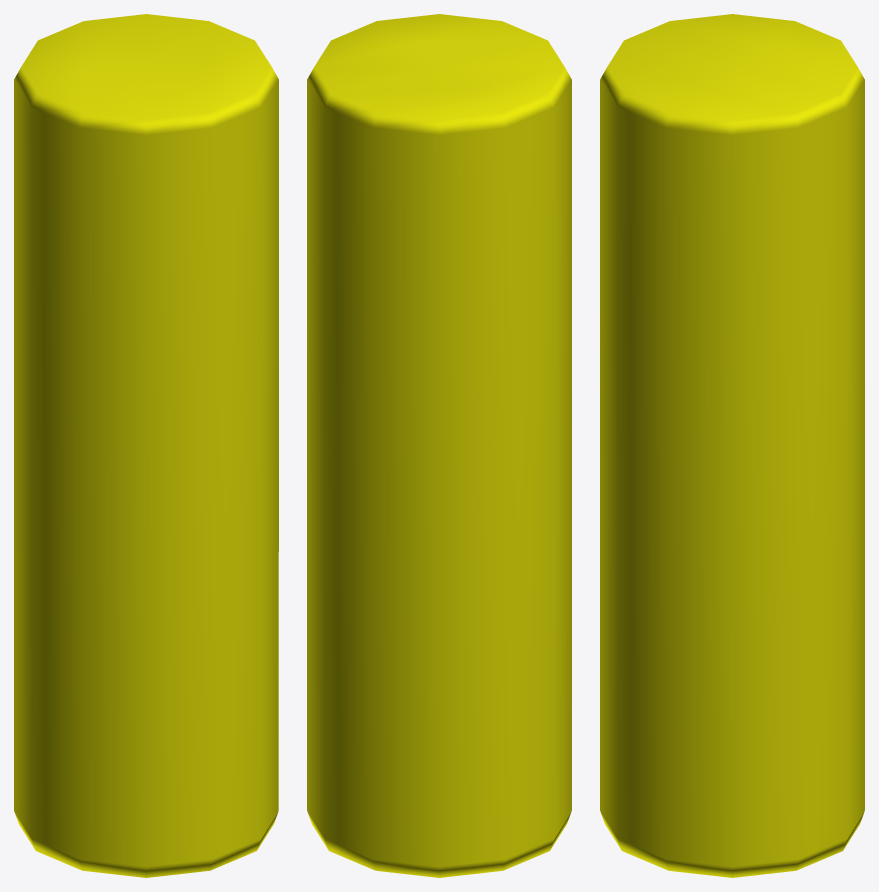
File: B_Pillar_02_B.fbx
The picture shows the model from 3 angles, left to right: view 1: azimuth 30°, elevation 25°; view 2: azimuth 150°, elevation 25°; view 3: azimuth 270°, elevation 25°; orthographic projection.
Parts seen in each view (by area): view 1: B_Pillar_02_B; view 2: B_Pillar_02_B; view 3: B_Pillar_02_B.
Boxes of the visible parts, x1,y1,x2,y2 form: B_Pillar_02_B: (14, 14, 278, 877); B_Pillar_02_B: (307, 14, 571, 877); B_Pillar_02_B: (600, 14, 864, 877).
Bounding box in the file's own units: 61.69 × 195 × 61.69.
